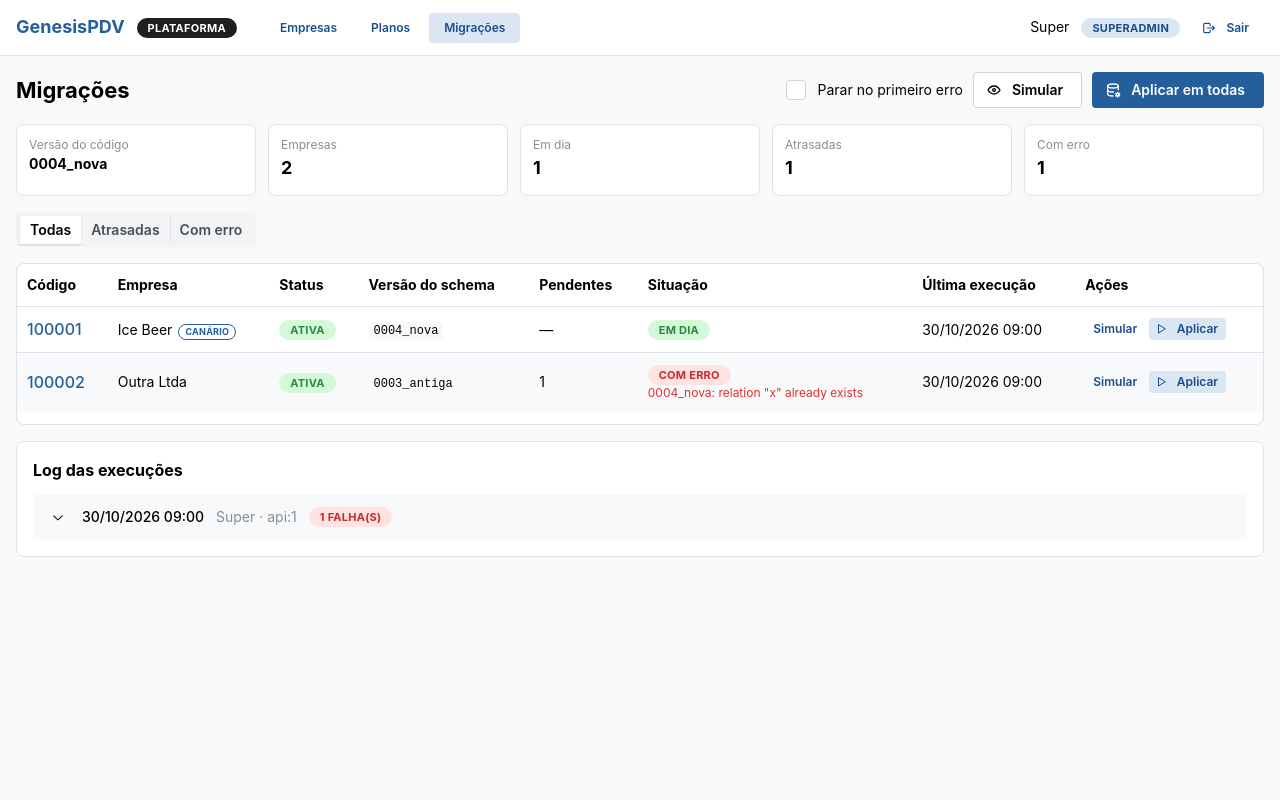
Scenario: painel › Migrações (ERP 19.7) › filtro "Com erro" vai para a URL e para a API
Check: the table named "Situação das empresas" is shown, box x1=17 y1=264 x2=1263 y2=412
Click the radio button labelled "Com erro". click: click(211, 229)
box: x1=180 y1=221 x2=242 y2=238
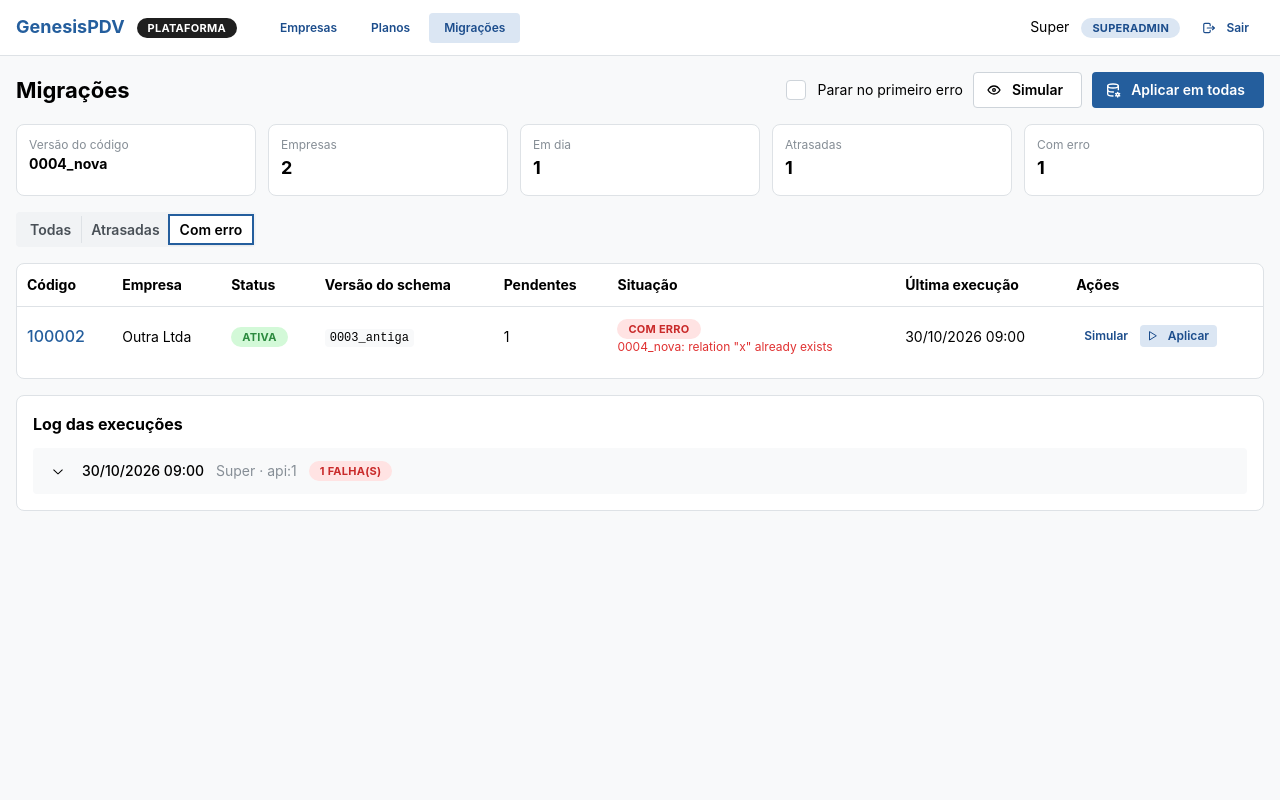
Check: the number of rows is 2, box x1=17 y1=264 x2=1263 y2=306; x1=17 y1=306 x2=1263 y2=366
